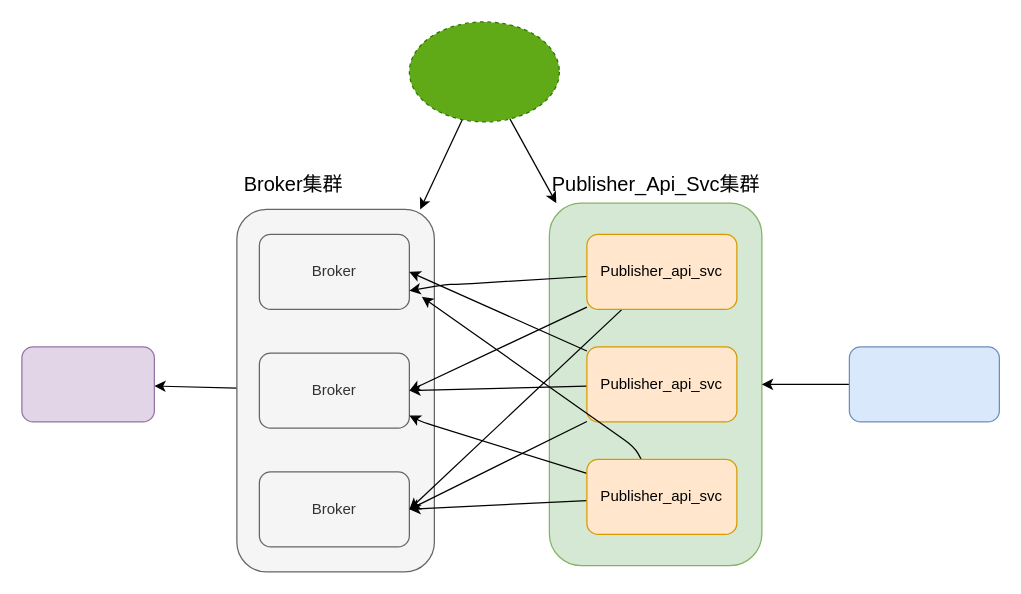
The diagram is 1021 pixels wide and 594 high, and some of its shapes have lost their labels. Each missing label, with the box of its shape:
Discovery: (408, 21, 559, 122)
Publisher: (848, 346, 999, 422)
Subscriber: (21, 346, 154, 422)
